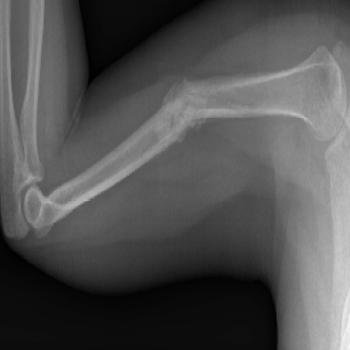Fracture: (161, 74, 205, 150)
